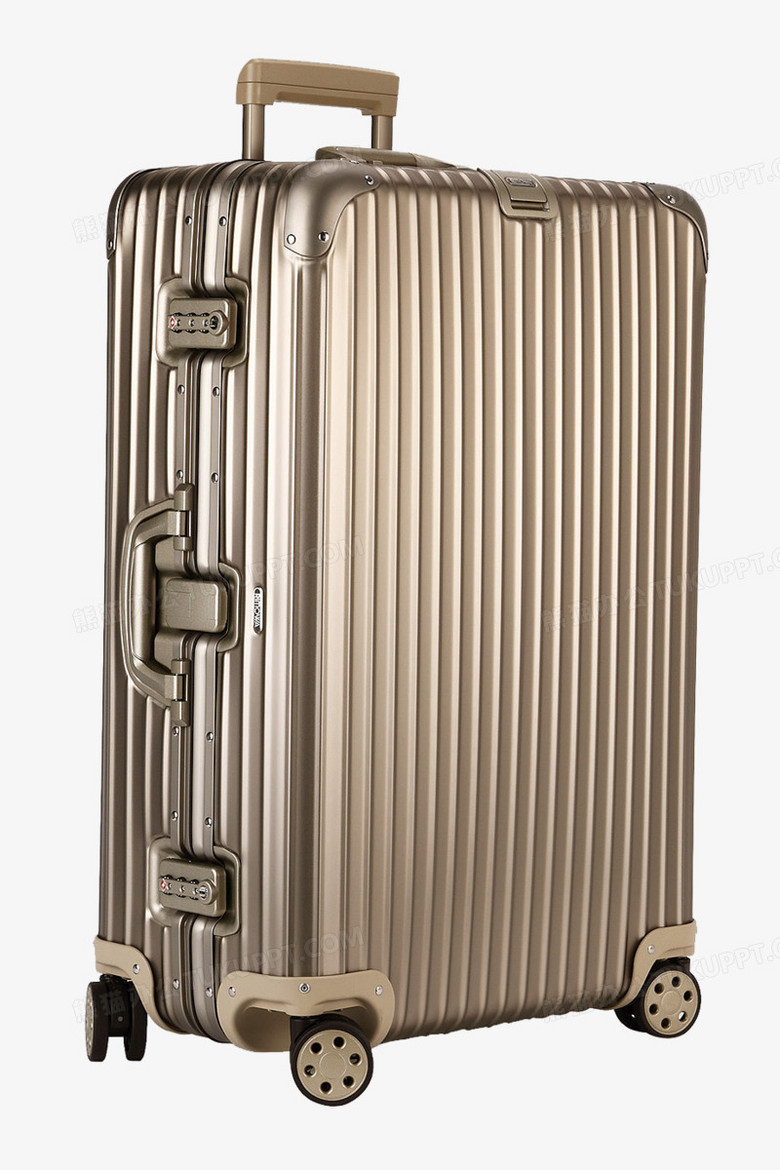box: (96, 163, 707, 1037)
handle: (120, 480, 199, 728), (311, 145, 459, 169)
lock: (157, 860, 227, 917), (165, 298, 236, 350)
wheel: (289, 1016, 374, 1108), (614, 964, 701, 1038), (84, 982, 148, 1064)
